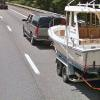Boat: (49, 0, 100, 98)
